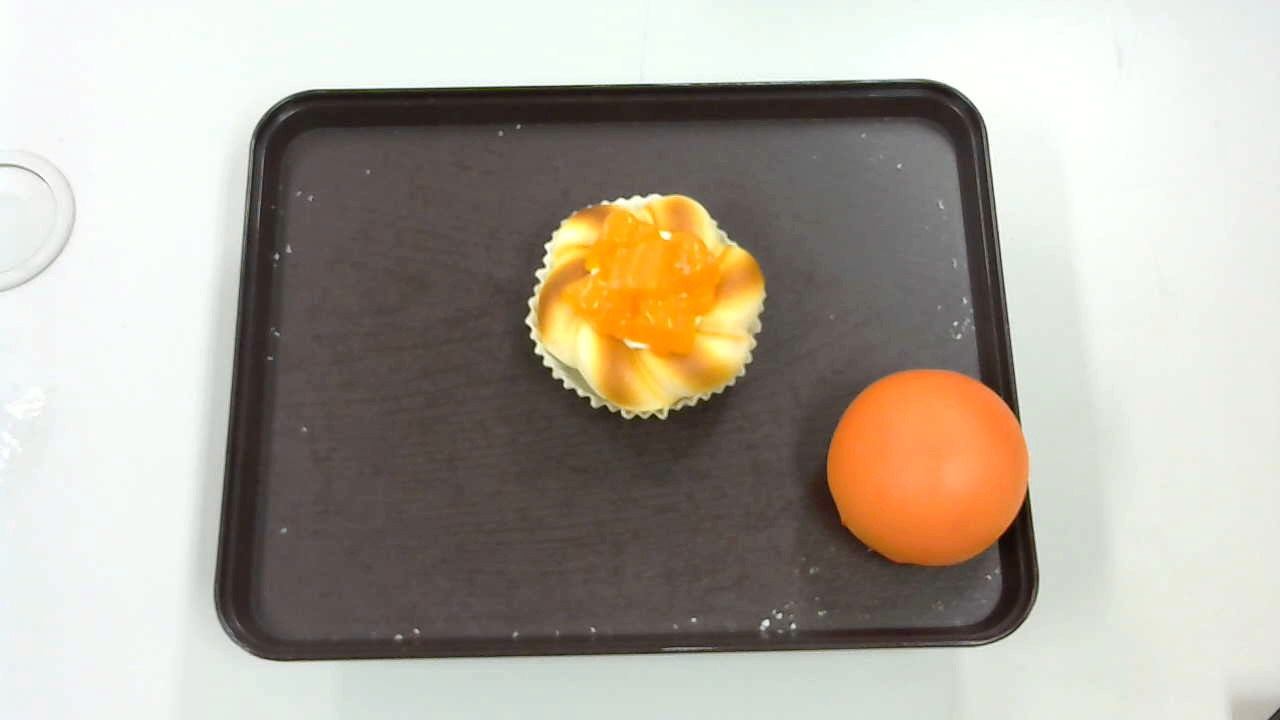bun: (825, 368, 1030, 569)
mango tart: (525, 192, 767, 422)
